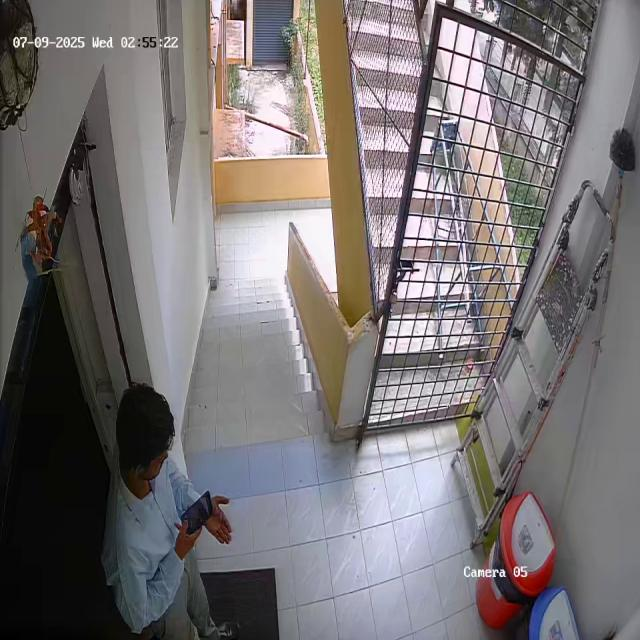person: (103, 382, 230, 640)
